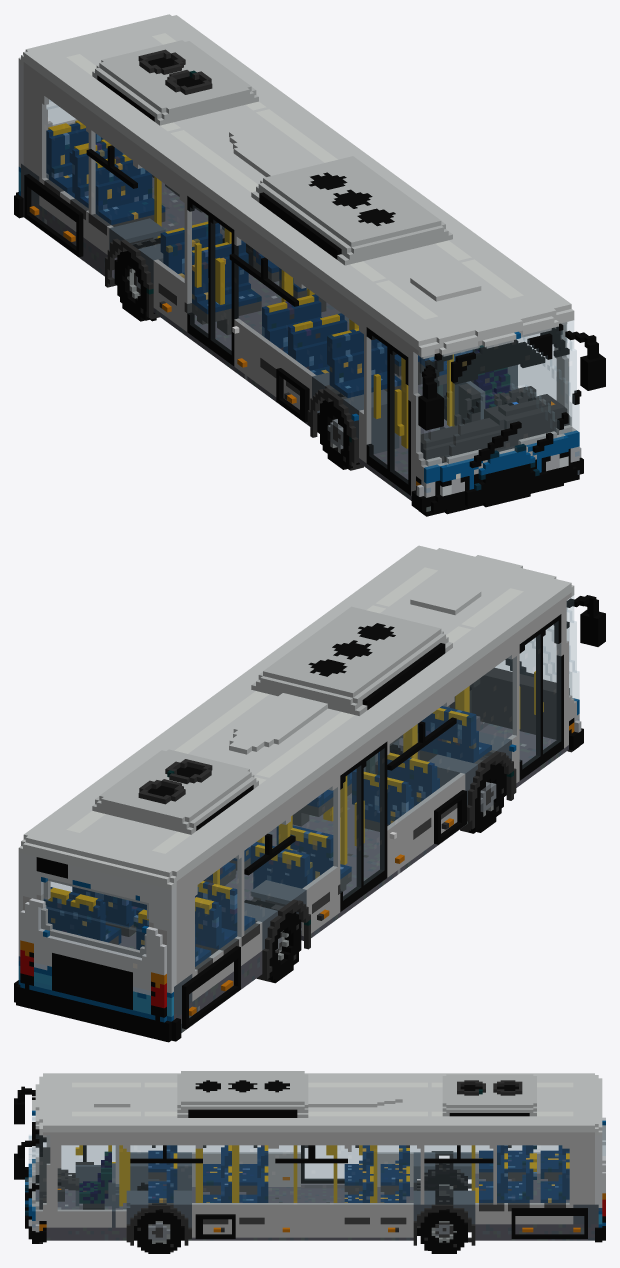
The model's file is city-bus-voxel.glb.
3 views of the same model, one above another, from view 1: azimuth 30°, elevation 25°; view 2: azimuth 150°, elevation 25°; view 3: azimuth 270°, elevation 25° (orthographic). The views are drawn at different scales.
Parts seen in each view (by area): view 1: Voxel_body, Door_2a, Door_1a, Door_2b, Door_1b, Wheel_Rear_R, Wheel_Front_R; view 2: Voxel_body, Door_2a, Door_1a, Door_1b, Door_2b, Wheel_Rear_R, Wheel_Front_R; view 3: Voxel_body, Wheel_Rear_L, Wheel_Front_L, Wheel_Rear_R, Door_2a, Door_1a, Door_2b, Door_1b.
Part boxes in pixels (x1,y1,x2,y2): Voxel_body: (14,14,605,516); Door_2a: (208,211,238,366); Door_1a: (387,342,410,495); Door_2b: (187,196,208,347); Door_1b: (366,327,387,478); Wheel_Rear_R: (114,238,160,321); Wheel_Front_R: (317,393,363,470); Voxel_body: (14,545,605,1042); Door_2a: (354,741,387,896); Door_1a: (534,614,563,765); Door_1b: (519,629,540,780); Door_2b: (340,760,361,911); Wheel_Rear_R: (244,899,301,983); Wheel_Front_R: (460,756,506,833); Voxel_body: (14,1071,605,1245); Wheel_Rear_L: (417,1196,467,1253); Wheel_Front_L: (134,1203,184,1253); Wheel_Rear_R: (417,1163,467,1197); Door_2a: (301,1145,333,1183); Door_1a: (62,1145,86,1172); Door_2b: (337,1145,362,1183); Door_1b: (87,1145,114,1164).
Bounding box in the file's own units: 3 × 3.22 × 12.22.
